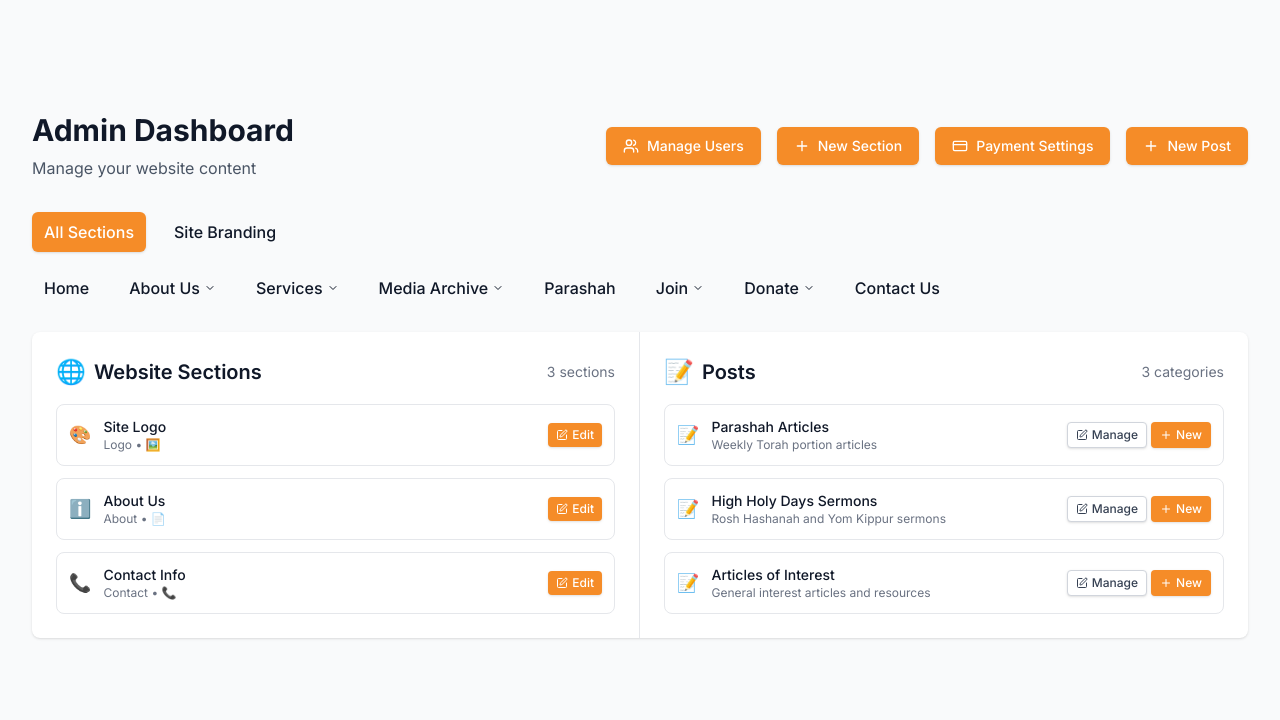
Test case: AdminDashboard › Category filtering › should filter content when category button is clicked
This screenshot has width=1280, height=720.
Expected: the heading "Site Logo" is shown, [104, 418, 166, 435]
Expected: the heading "About Us" is shown, [104, 492, 165, 509]
Click the button "About Us" at [173, 288], box [117, 268, 228, 308]
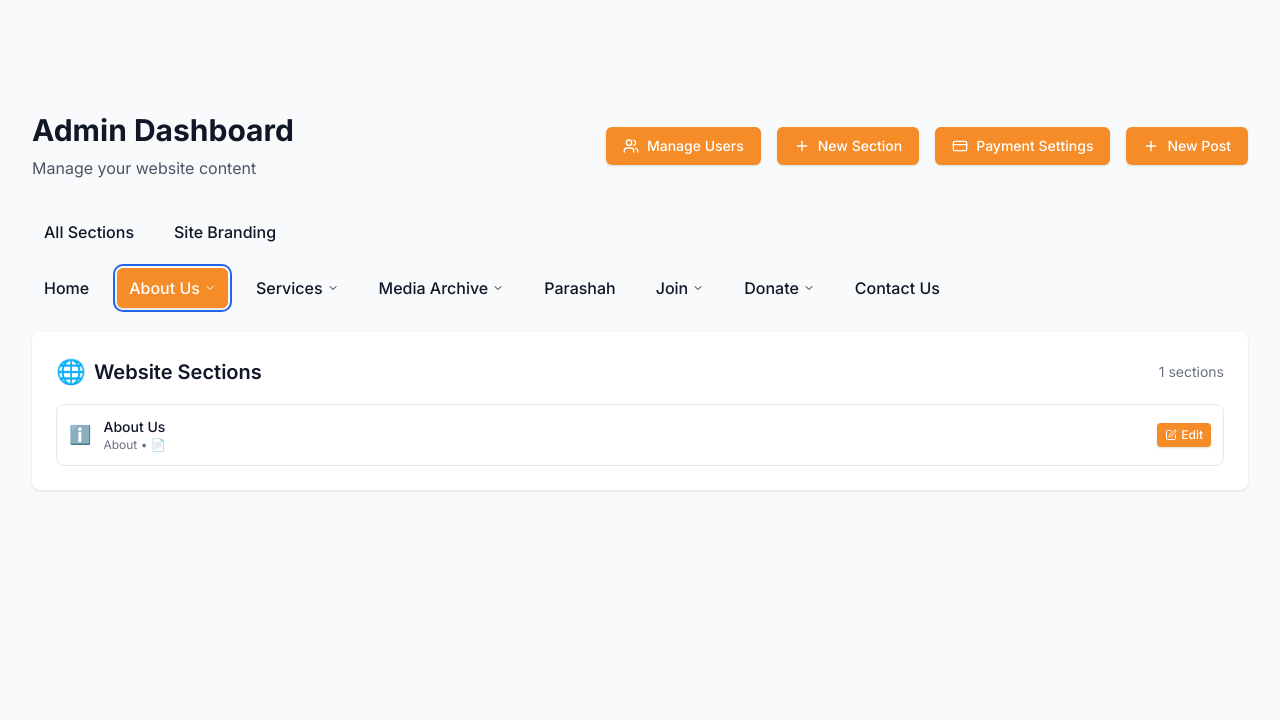
Expected: the heading "About Us" is shown, [104, 418, 165, 435]
Expected: the heading "Site Logo" is gone
Expected: the heading "Contact Info" is gone
